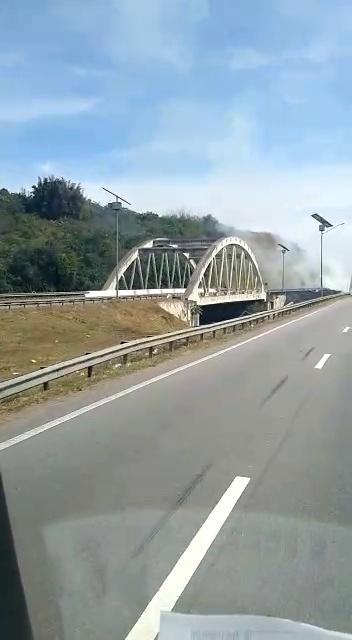smoke: (253, 240, 307, 285)
